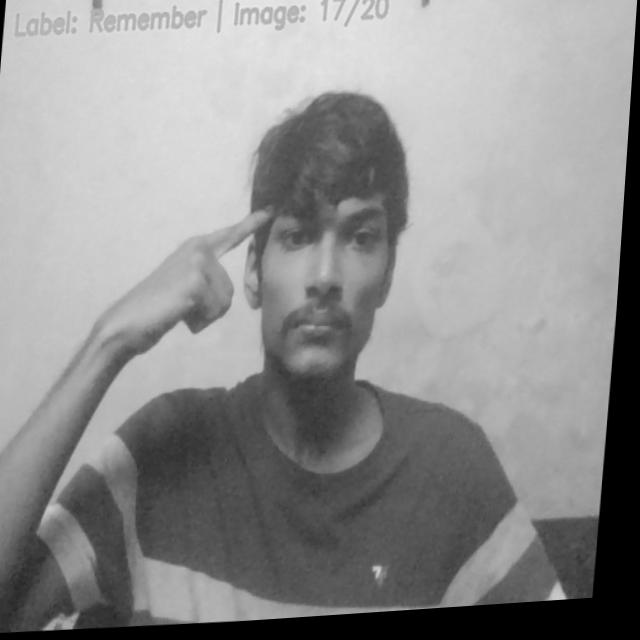Remember: (97, 205, 276, 371)
